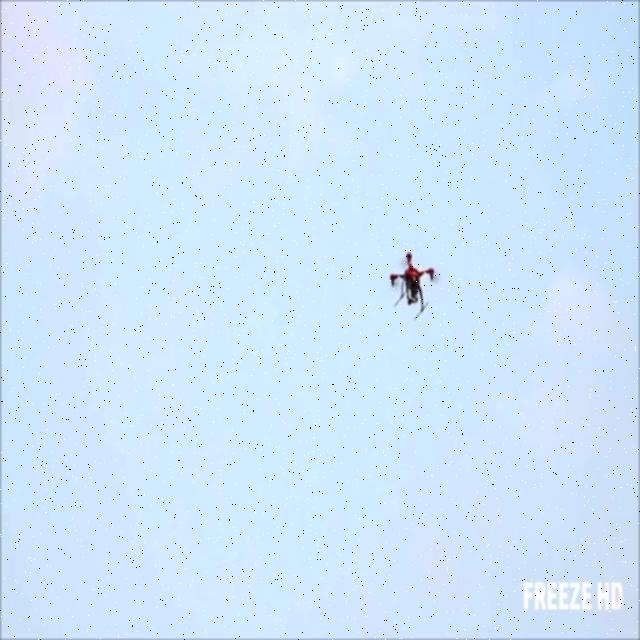UAV: (389, 252, 436, 322)
